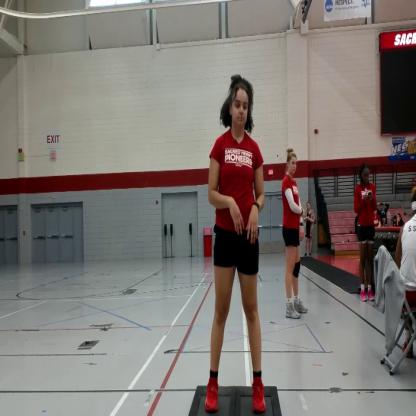lateral_flexion_normal: (203, 72, 270, 416)
stance_width_broad: (203, 126, 271, 416)
